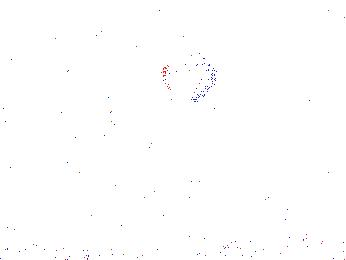flame jellyfish: (279, 170, 346, 223), (160, 49, 218, 103), (219, 160, 273, 207)
